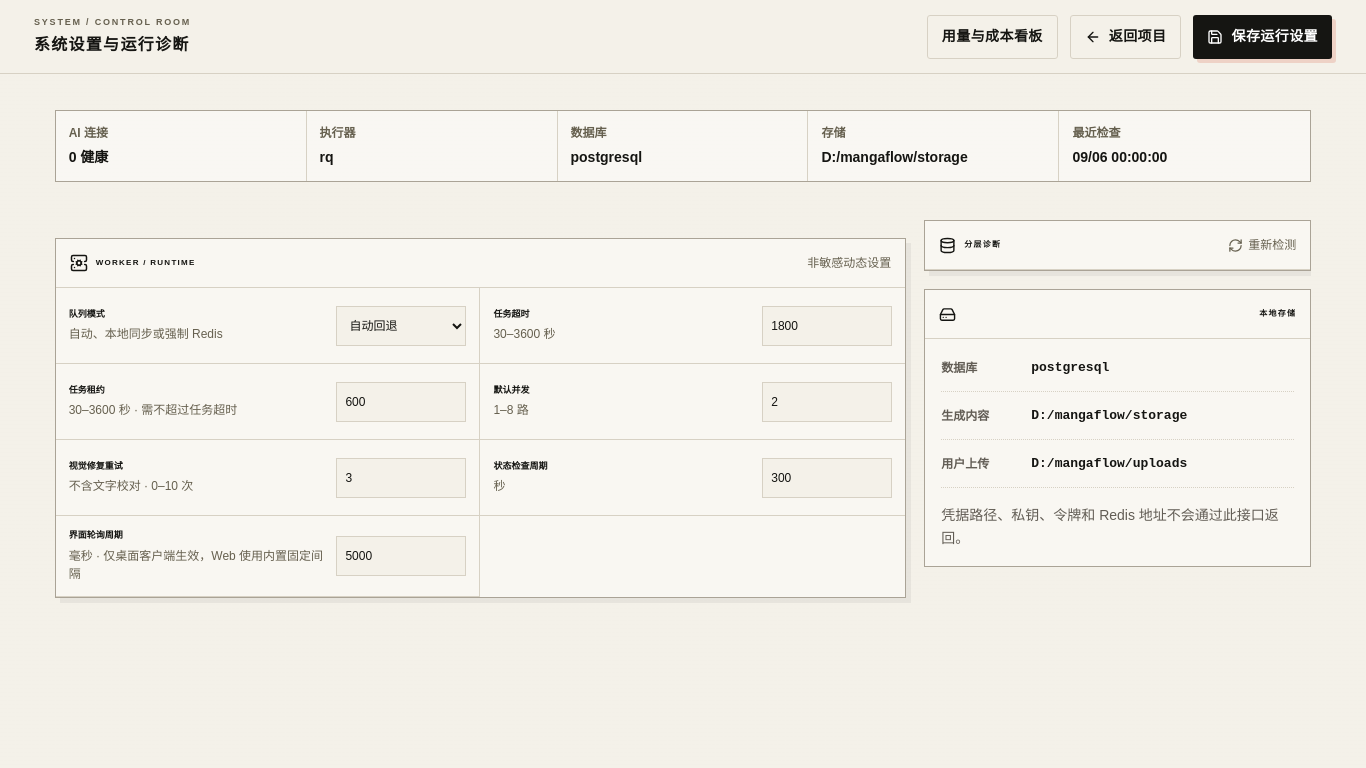
Test: SystemSettingsPage 任务租约设置 › 后端 422 指出 job_lease_seconds 问题时展示错误详情
Expected: the number field labelled "任务租约 30–3600 秒 · 需不超过任务超时" is shown, [336,382,466,422]
Click the button "保存运行设置".
click(1263, 36)  # box [1194,14,1332,58]
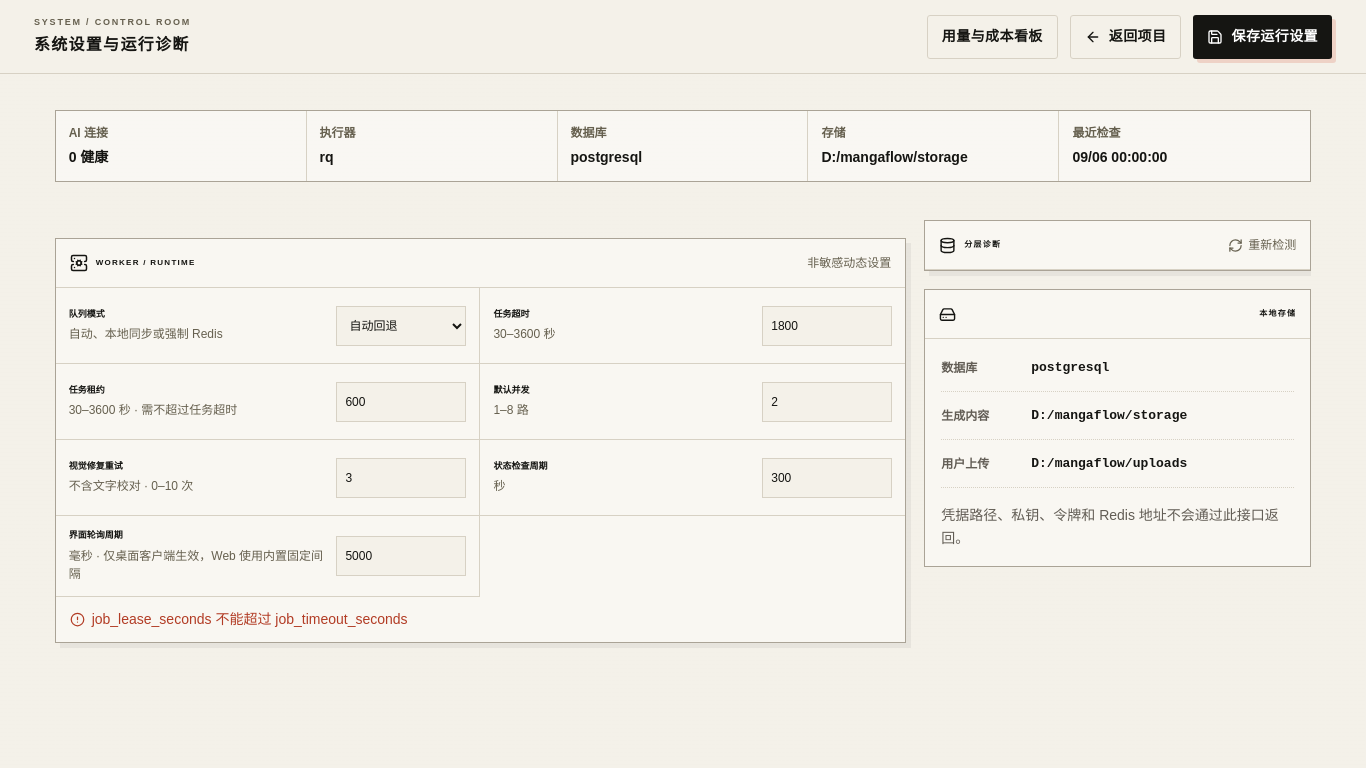
Now the text "job_lease_seconds 不能超过 job_timeout_seconds" is shown, box [70,610,408,626]
